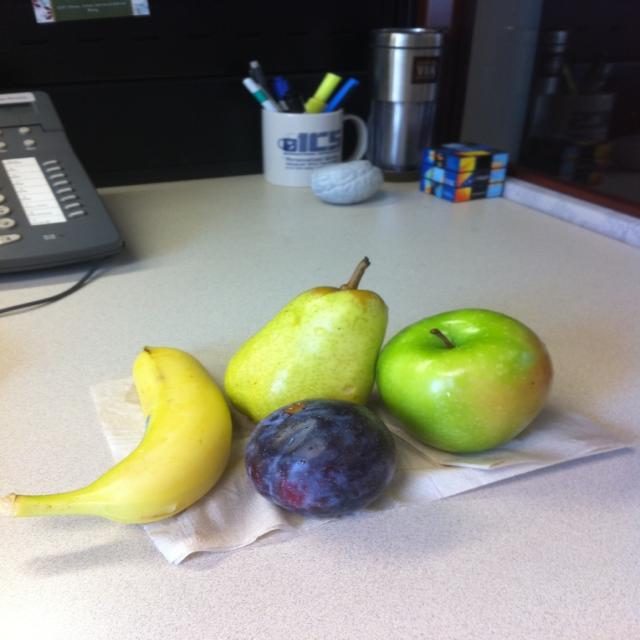apple: (380, 308, 552, 455)
banana: (2, 343, 231, 525)
pear: (224, 287, 386, 427)
